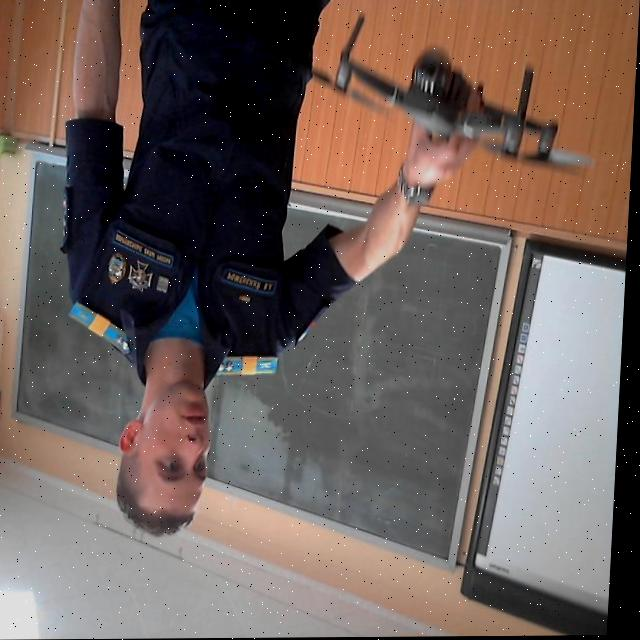drone: (310, 0, 609, 180)
